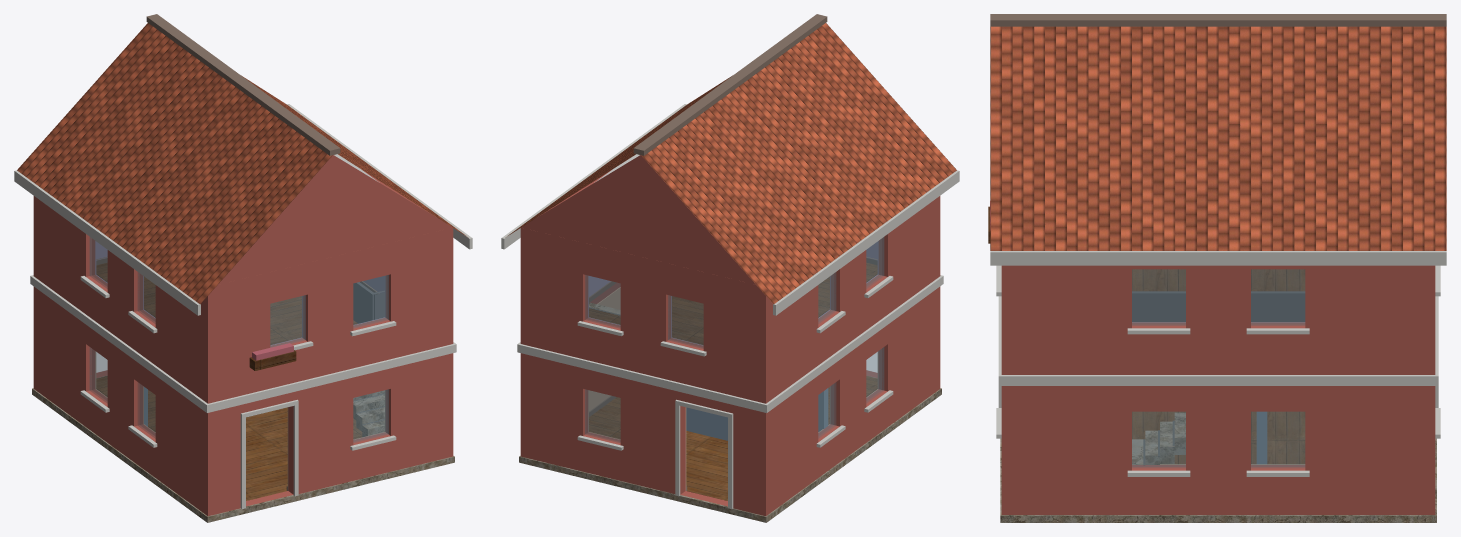
File: cove-house-red.glass-v3.lod0.glb
3 renders of one model, left to right at view 1: azimuth 30°, elevation 25°; view 2: azimuth 150°, elevation 25°; view 3: azimuth 270°, elevation 25°, orthographic. The views are drawn at different scales.
Parts seen in each view (by area): view 1: cove-house-red; view 2: cove-house-red; view 3: cove-house-red.
Boxes of the visible parts, left/top/right/bottom form: cove-house-red: left=14, top=14, right=472, bottom=522; cove-house-red: left=501, top=14, right=959, bottom=522; cove-house-red: left=988, top=14, right=1446, bottom=522.
Bounding box in the file's own units: 7.28 × 8.78 × 8.46.
5 materials, 3 textured.
